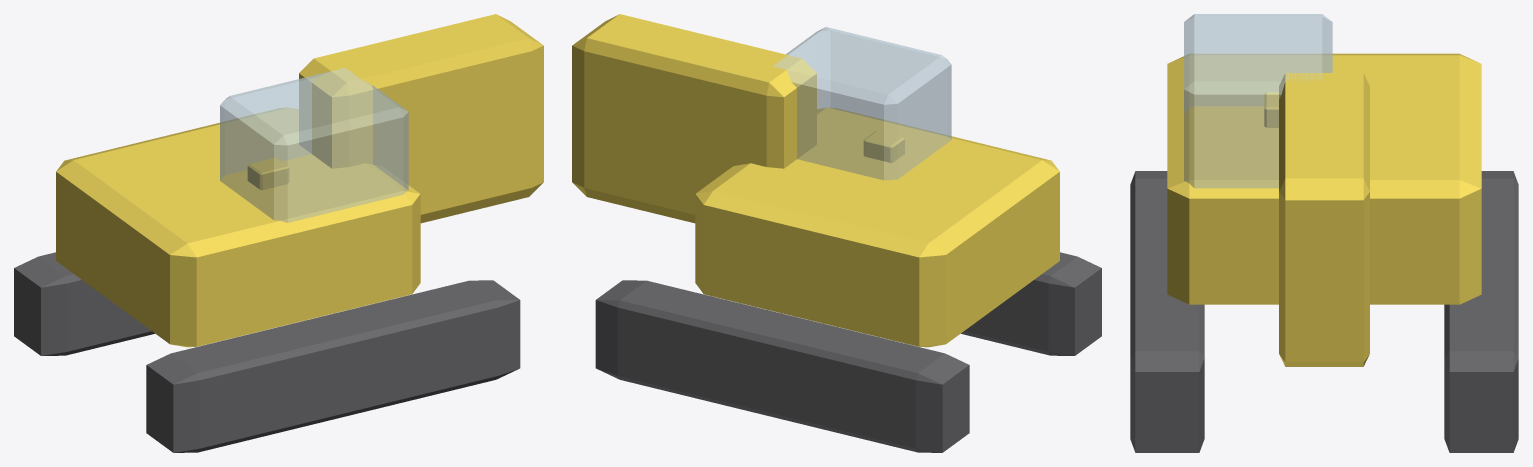
Rendered from b07_crawler_bulldozer.glb.
3 views of the same model, side by side, from view 1: azimuth 30°, elevation 25°; view 2: azimuth 150°, elevation 25°; view 3: azimuth 270°, elevation 25° (orthographic). The views are drawn at different scales.
Visible parts, largest first — view 1: b07_crawler_bulldozer; view 2: b07_crawler_bulldozer; view 3: b07_crawler_bulldozer.
Boxes of the visible parts, x1=… form: b07_crawler_bulldozer: x1=14, y1=14, x2=543, y2=452; b07_crawler_bulldozer: x1=572, y1=14, x2=1101, y2=452; b07_crawler_bulldozer: x1=1130, y1=14, x2=1518, y2=452.
Size of the model in its own units: 4.83 by 2.9 by 3.16.
